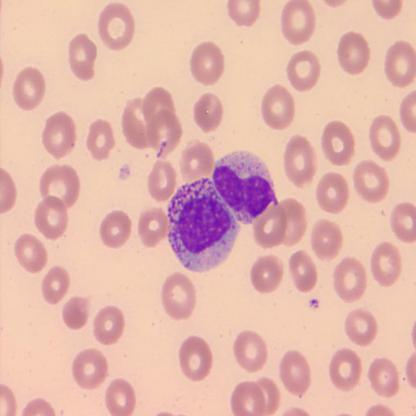Myelocyte: (165, 178, 241, 270), (214, 151, 281, 223)
